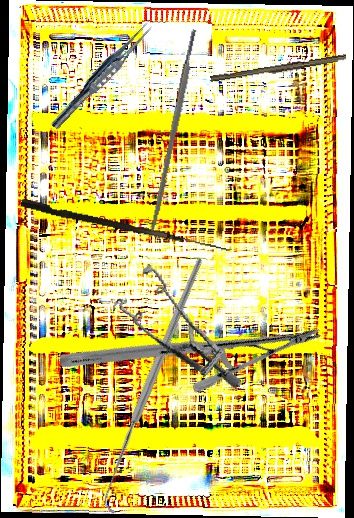Hook Surgical: (19, 256, 292, 515), (19, 198, 233, 252)
Needle Holder: (55, 224, 325, 471)
Scalpel Handle: (148, 28, 200, 233), (210, 52, 347, 86)
Speculum: (105, 249, 242, 412)
Tissue Forceps: (48, 17, 156, 135)
